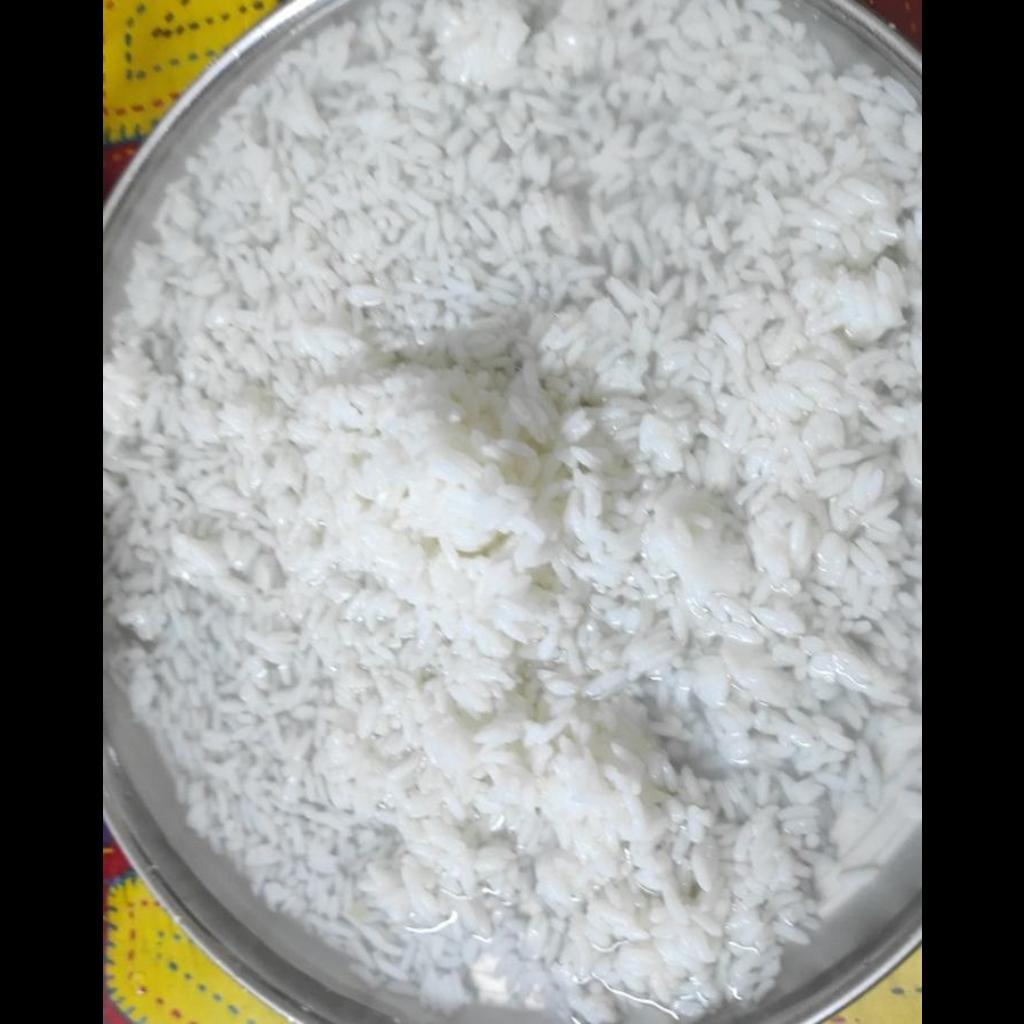rice: (103, 0, 919, 1019)
